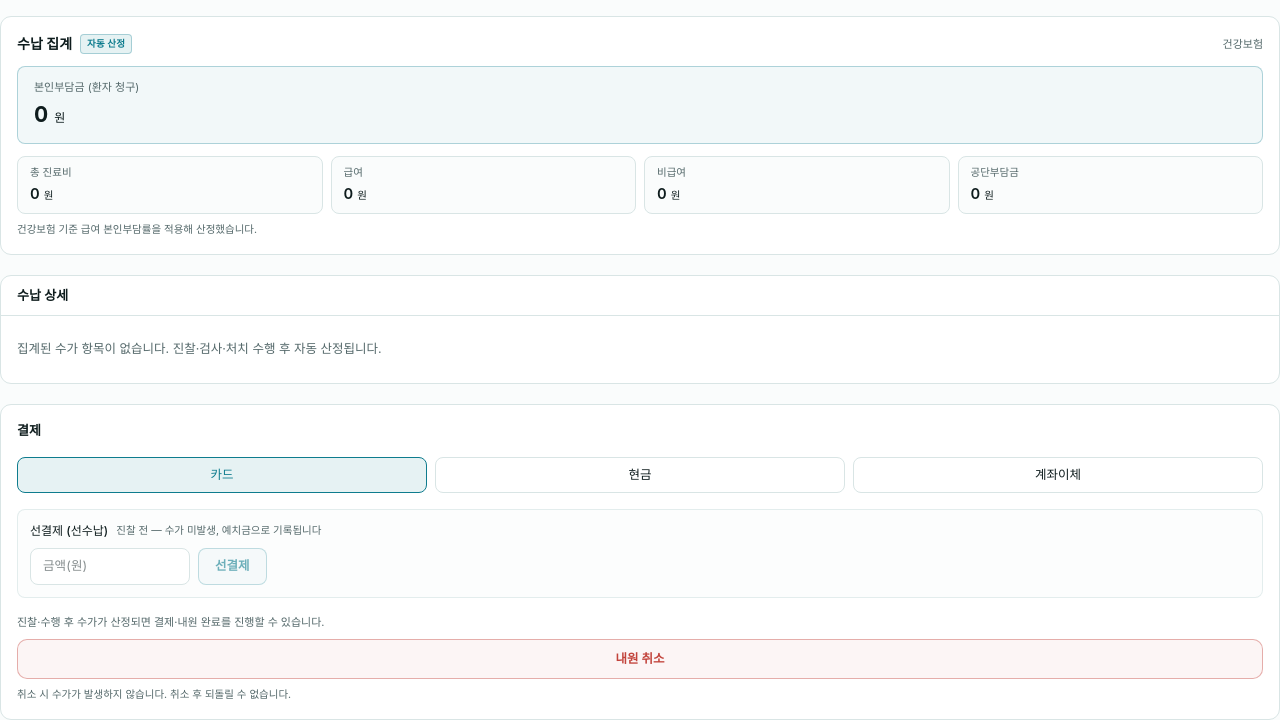
Test: BillingDetail › registered 후수납(선납 0) → '내원 취소'(환급 문구 없음) → settleCancelledVisit
(page scrolled)
What coordinates should you click on to do the following:
click the button "내원 취소"
I would click on:
 (640, 659)
Its box is [17,638,1263,679].
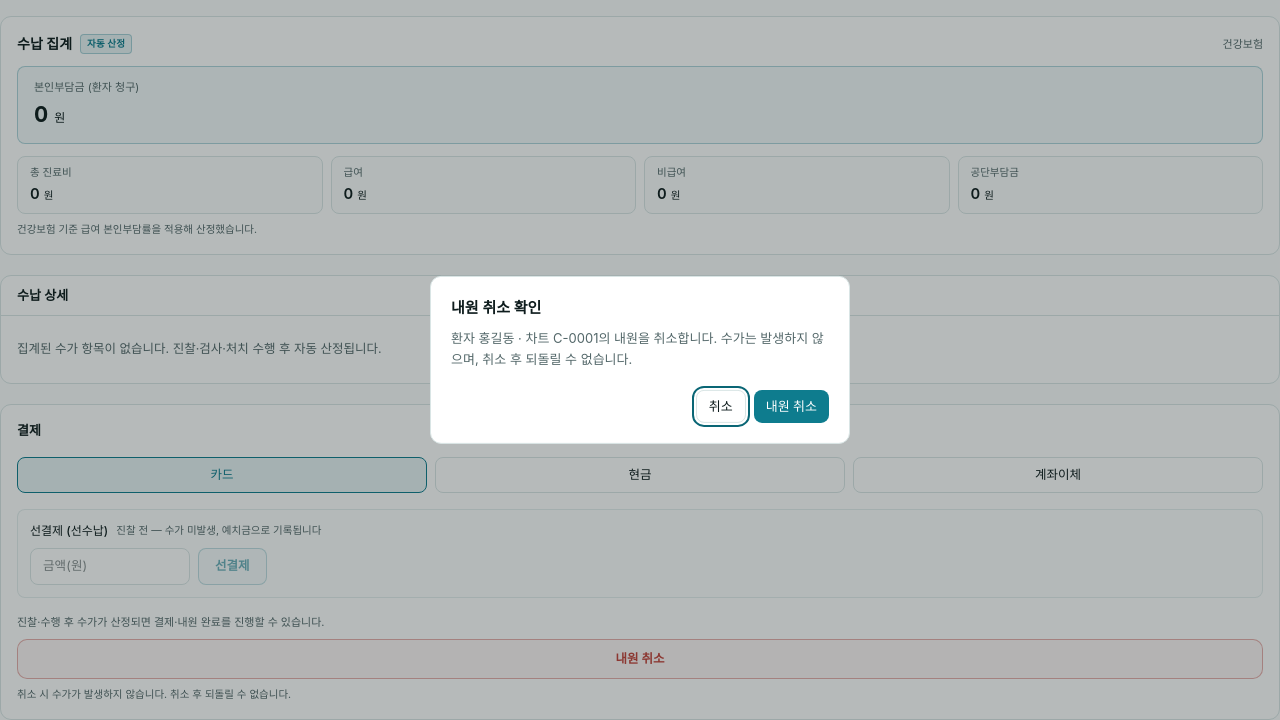
What coordinates should you click on to do the following:
click the button "내원 취소"
I would click on:
 (791, 406)
Its box is [754,390,829,423].
(page scrolled)
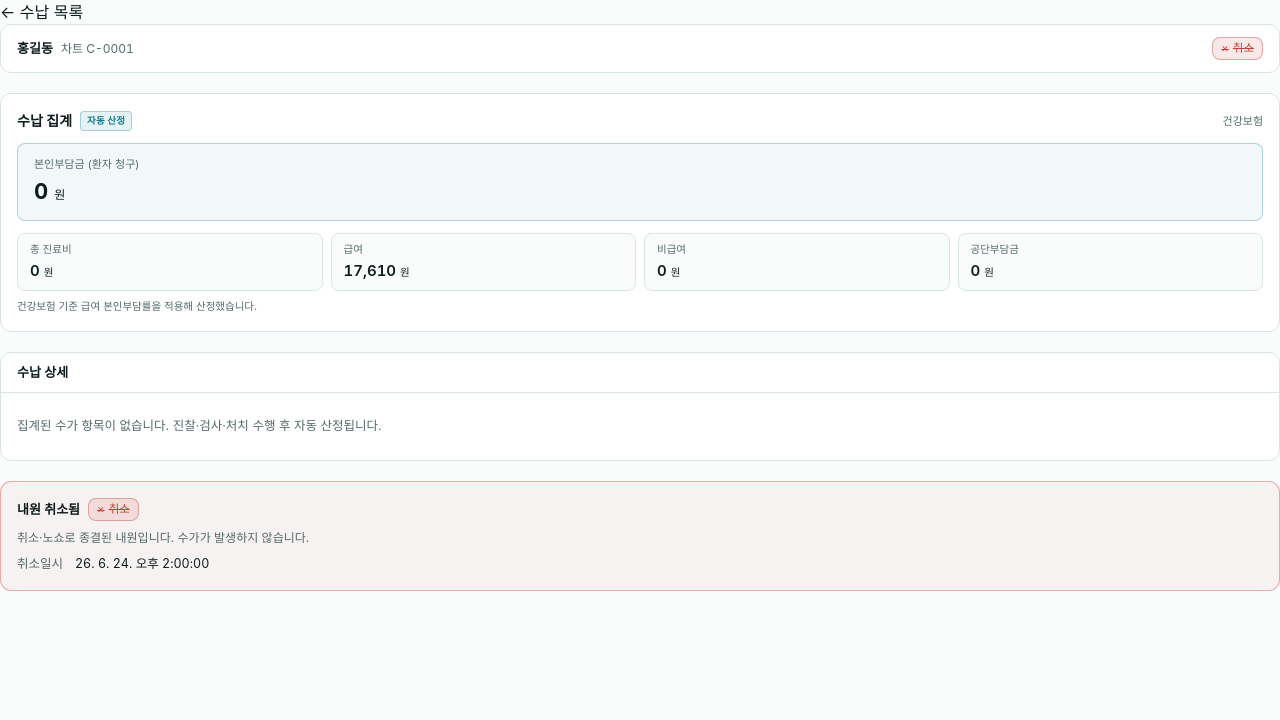
Now the heading "내원 취소됨" is shown, box [17,500,80,519]
